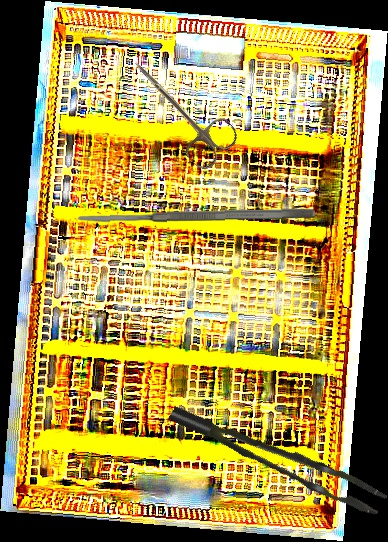Iris Scissors: (114, 46, 243, 174)
Spatula Surgical: (76, 206, 316, 225)
Tissue Forceps: (168, 378, 388, 536)
